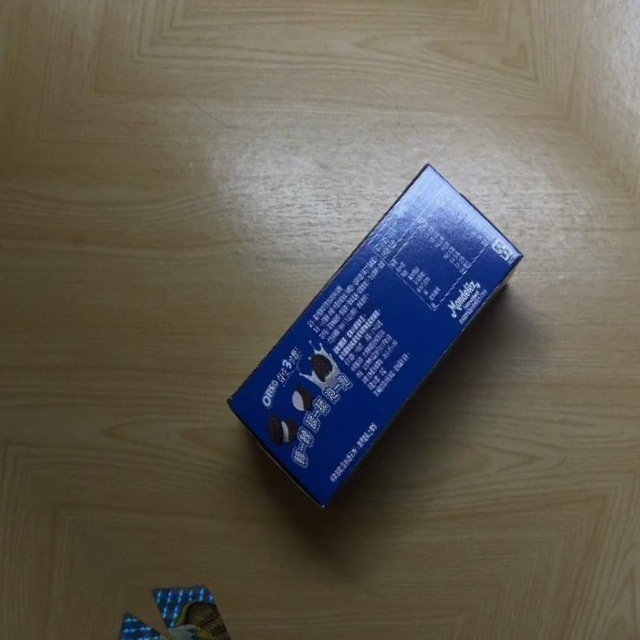Oreo: (186, 152, 567, 517)
